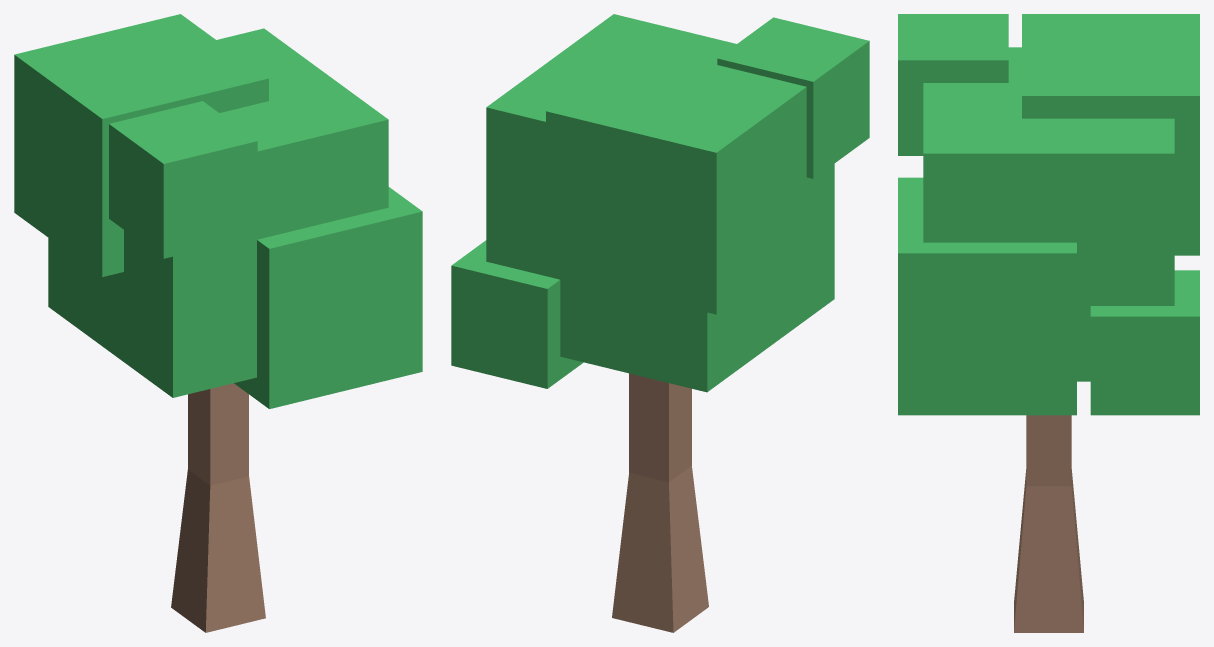
File: treeBlocks.glb
3 views of the same model, side by side, from view 1: azimuth 30°, elevation 25°; view 2: azimuth 150°, elevation 25°; view 3: azimuth 270°, elevation 25° (orthographic). The views are drawn at different scales.
Parts seen in each view (by area): view 1: treeBlocks; view 2: treeBlocks; view 3: treeBlocks.
Boxes of the visible parts, x1=… form: treeBlocks: x1=14, y1=14, x2=422, y2=632; treeBlocks: x1=451, y1=14, x2=869, y2=632; treeBlocks: x1=898, y1=14, x2=1199, y2=632.
Bounding box in the file's own units: 0.6 × 1.19 × 0.6.
